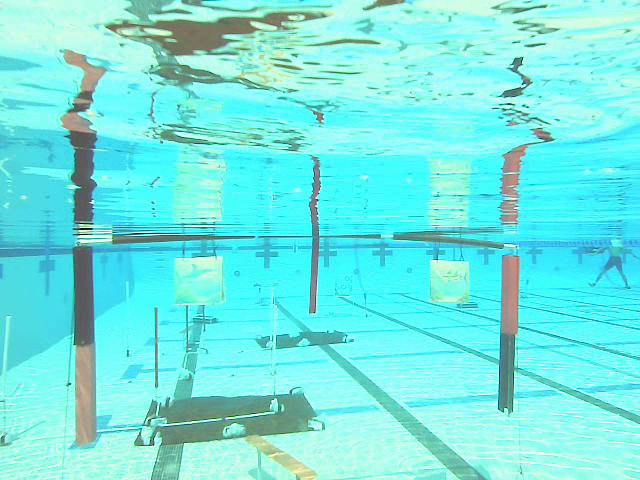black_poster: (151, 304, 163, 390)
divider: (309, 239, 321, 314)
left_gate_poster: (69, 245, 101, 443)
right_gate_poster: (499, 252, 519, 413)
shark: (174, 258, 225, 304)
swordfish: (431, 259, 472, 307)
white_poster: (0, 316, 15, 444), (271, 296, 279, 377), (125, 284, 133, 357)
